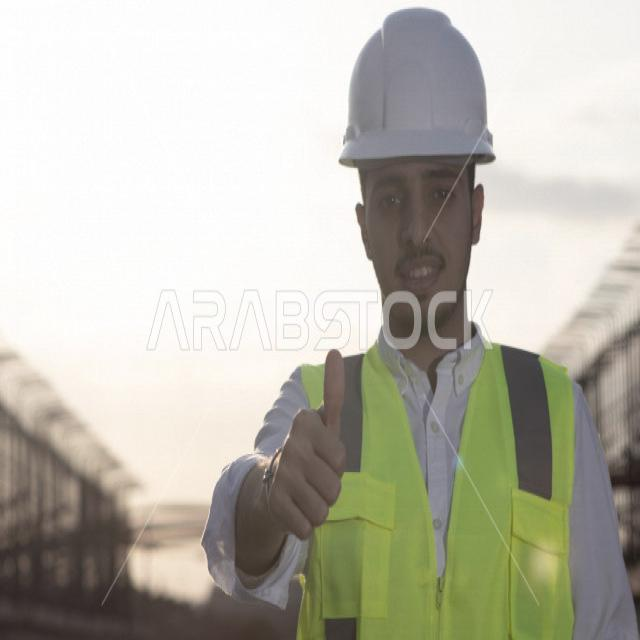helmet: (332, 7, 512, 172)
no-goggles: (342, 155, 487, 232)
vest: (301, 339, 580, 640)
